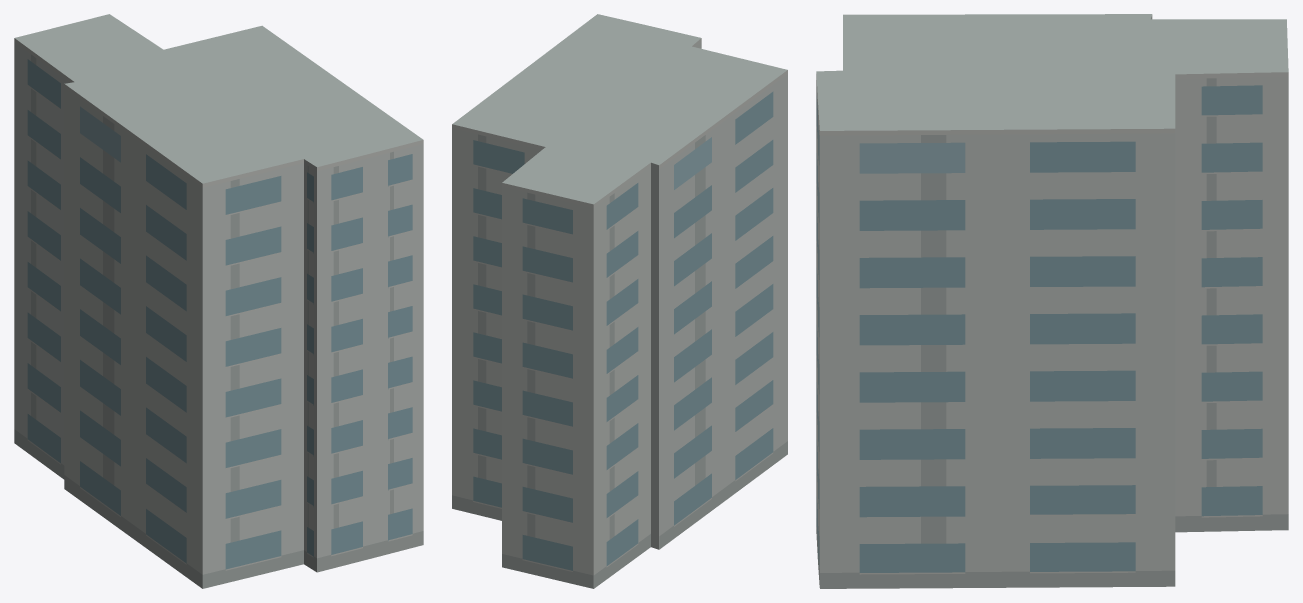
Rendered from survey-upis-32457837.glb.
3 views of the same model, side by side, from view 1: azimuth 30°, elevation 25°; view 2: azimuth 150°, elevation 25°; view 3: azimuth 270°, elevation 25° (orthographic). The views are drawn at different scales.
Visible parts, largest first — view 1: survey-upis-32457837.tmp; view 2: survey-upis-32457837.tmp; view 3: survey-upis-32457837.tmp.
Boxes of the visible parts, bbox=[...] form: survey-upis-32457837.tmp: bbox=[14, 14, 423, 588]; survey-upis-32457837.tmp: bbox=[452, 14, 787, 588]; survey-upis-32457837.tmp: bbox=[816, 14, 1288, 588].
Size of the model in its own units: 13.12 by 23.93 by 22.38.
